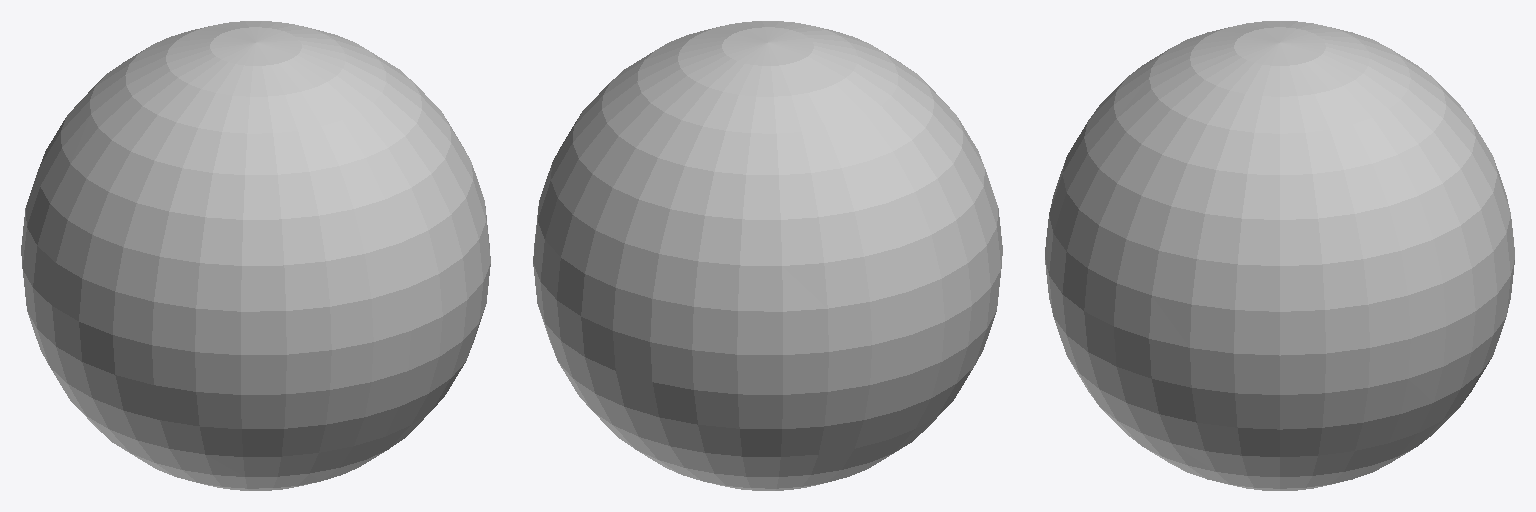
File: Bubble.obj
The picture shows the model from 3 angles: view 1: azimuth 30°, elevation 25°; view 2: azimuth 150°, elevation 25°; view 3: azimuth 270°, elevation 25°; orthographic projection.
Visible parts, largest first — view 1: Sphere; view 2: Sphere; view 3: Sphere.
Boxes of the visible parts, box(x1,y1,x2,y2) form: Sphere: box(21, 21, 490, 490); Sphere: box(533, 21, 1002, 490); Sphere: box(1045, 21, 1514, 490).
Size of the model in its own units: 0.0579 by 0.0579 by 0.0579.